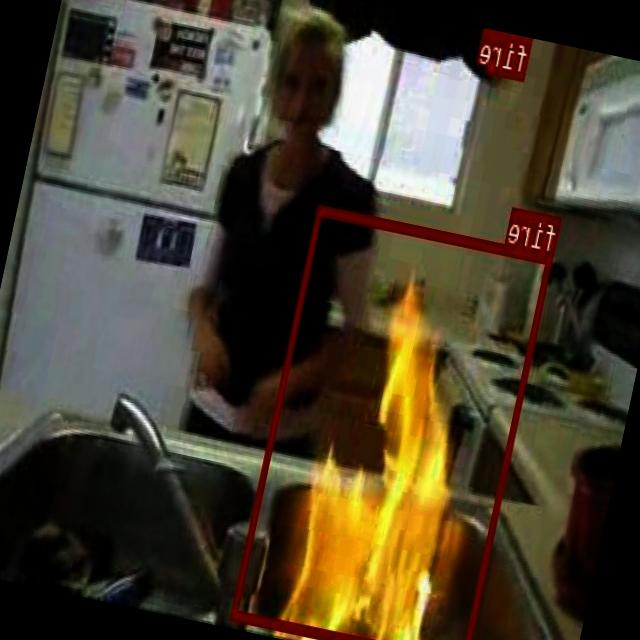fire: (231, 203, 555, 640), (488, 30, 534, 80)
